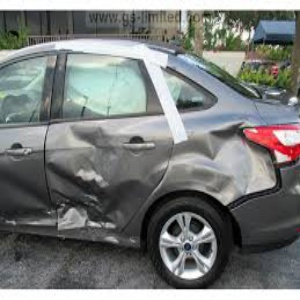door: (3, 134, 145, 230)
